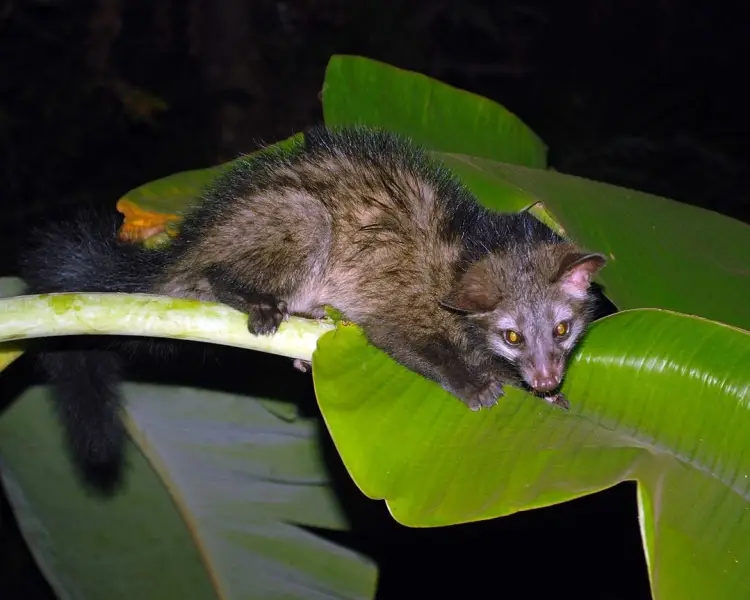Civet: (72, 121, 617, 422)
